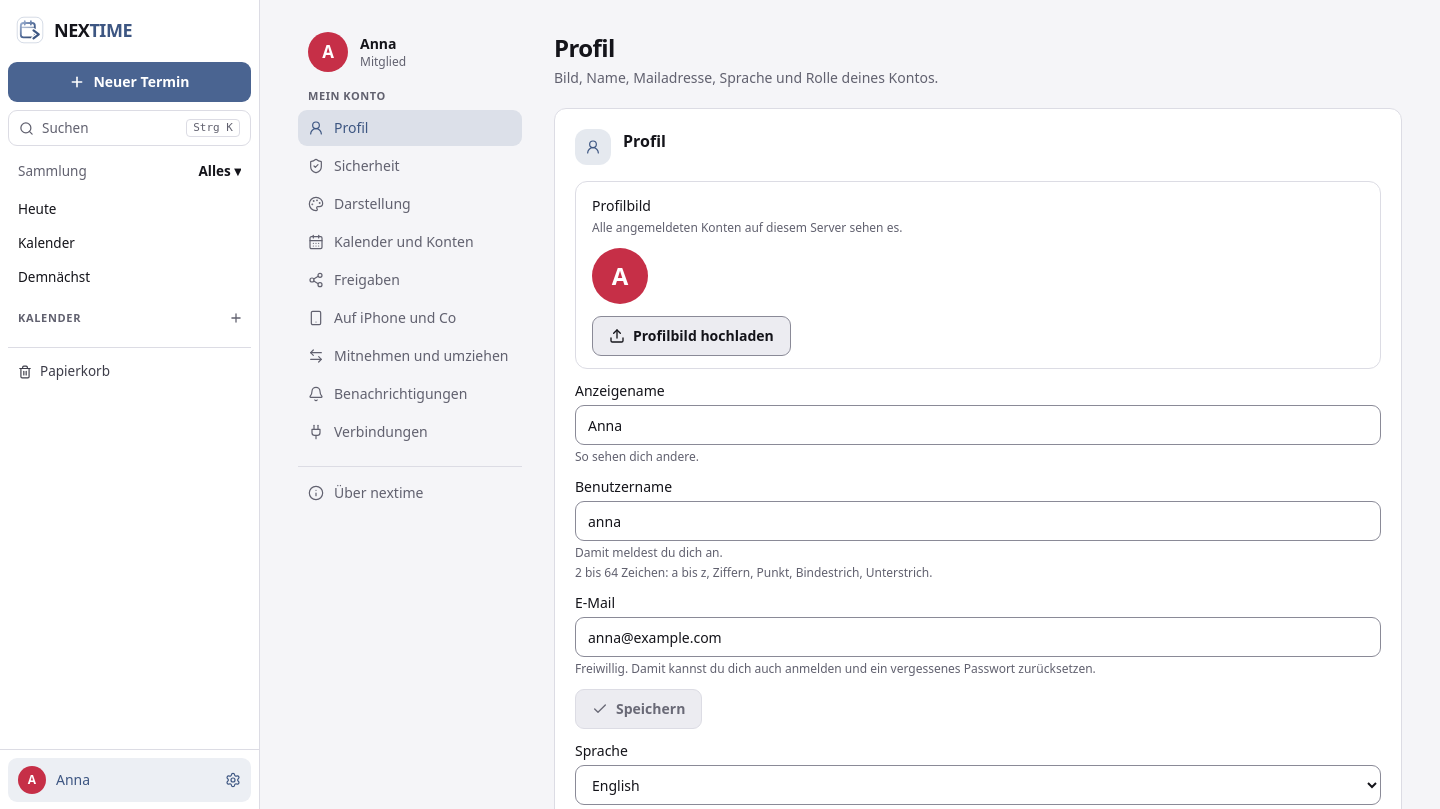
Test: TIME-3 the language › TIME-3 AC-1 choosing a language changes the page at once and is kept for the account
The width and height of the screenshot is (1440, 809).
Select "English" in the dropdown with test id "language-select" at x=978, y=785, box [575,765,1381,805]
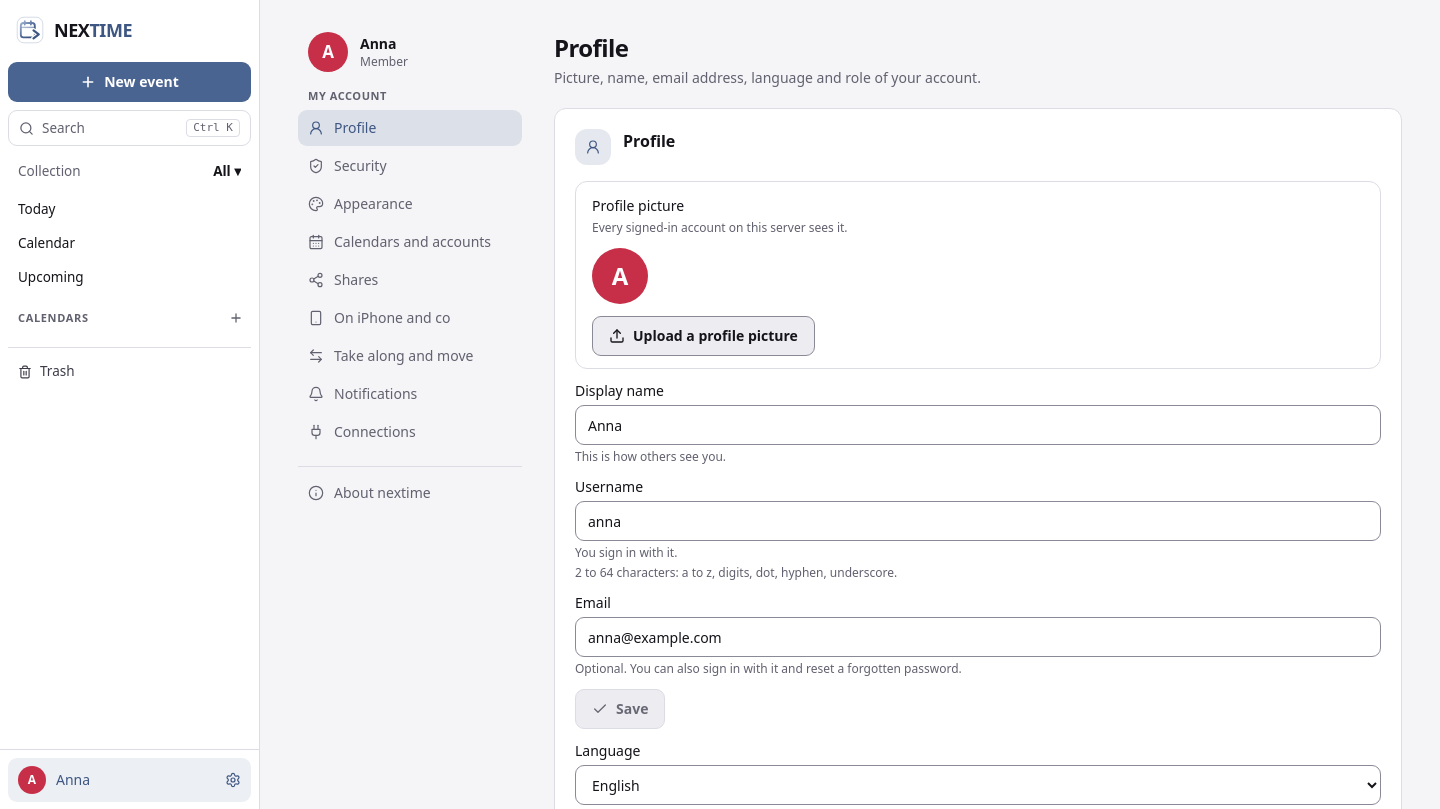
Result: the text "Upload a profile picture" is shown at [633,326,798,346]
Result: the 1st heading "Profile" is shown at [554,31,628,64]
